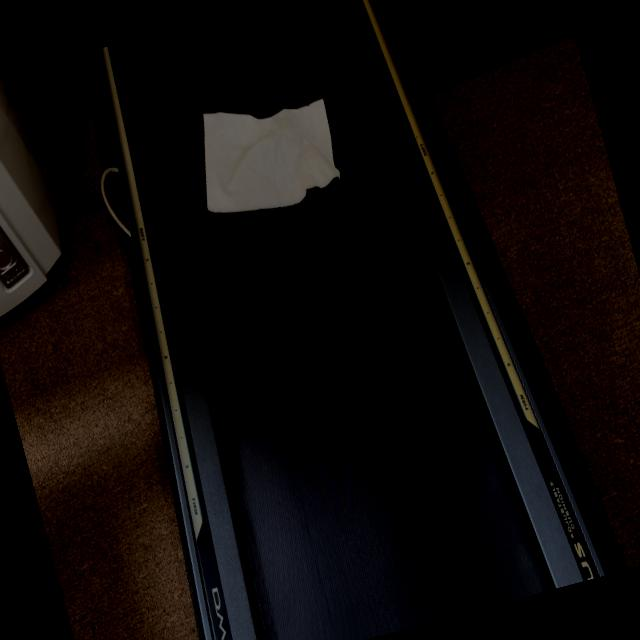Recycle: (182, 80, 348, 226)
